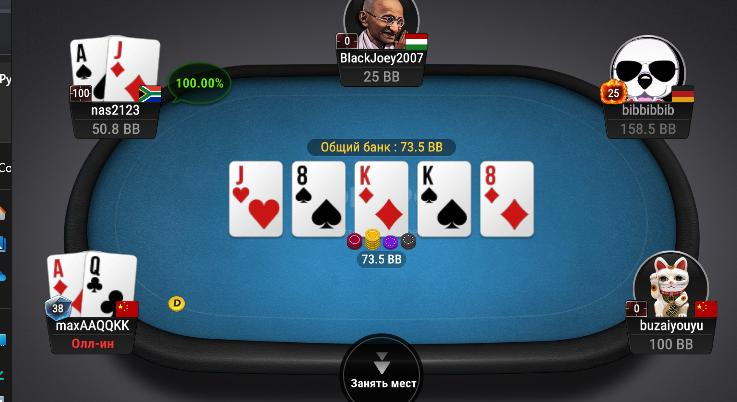8d: (481, 162, 533, 237)
8s: (293, 162, 343, 235)
Ad: (47, 253, 86, 316)
As: (71, 36, 108, 102)
Jd: (106, 34, 158, 101)
Jh: (230, 162, 282, 235)
Kd: (356, 162, 408, 233)
Ks: (417, 163, 472, 236)
Qc: (84, 252, 137, 319)
